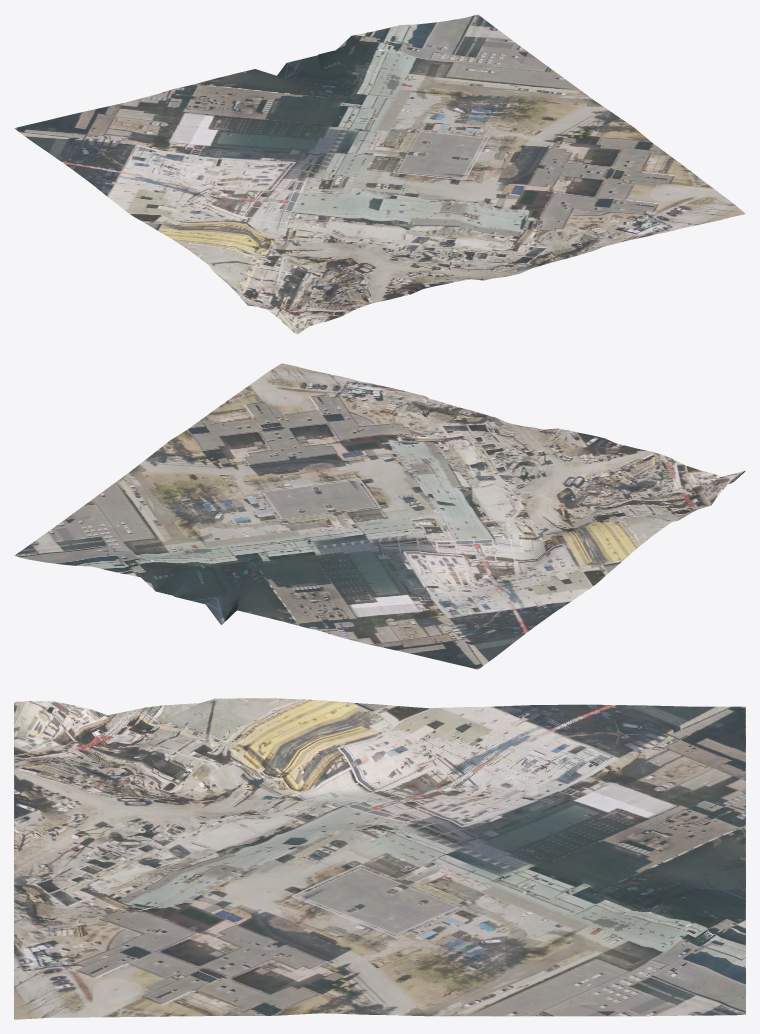
The model's file is CM_Terrain_24490049_6821636.fbx.
The picture shows the model from 3 angles, top to bottom: view 1: azimuth 30°, elevation 25°; view 2: azimuth 150°, elevation 25°; view 3: azimuth 270°, elevation 25°; orthographic projection. The views are drawn at different scales.
Visible parts, largest first — view 1: CM_Terrain_24490049_6821636_LOD0; view 2: CM_Terrain_24490049_6821636_LOD0; view 3: CM_Terrain_24490049_6821636_LOD0.
Boxes of the visible parts, box(x1,y1,x2,y2) form: CM_Terrain_24490049_6821636_LOD0: box(14, 14, 745, 334); CM_Terrain_24490049_6821636_LOD0: box(14, 363, 745, 669); CM_Terrain_24490049_6821636_LOD0: box(14, 698, 745, 1019).
Size of what is drawn, in the model's own units: 205 by 11.78 by 205.
